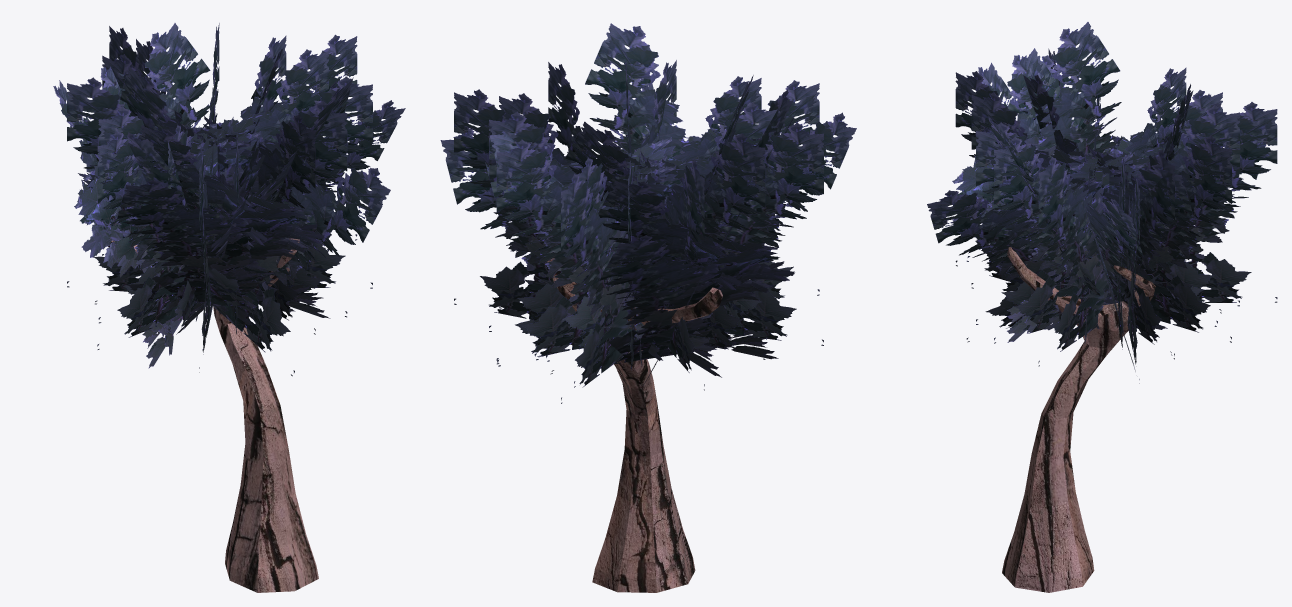
File: arvore2.fbx
3 renders of one model, left to right at view 1: azimuth 30°, elevation 25°; view 2: azimuth 150°, elevation 25°; view 3: azimuth 270°, elevation 25°, orthographic. The views are drawn at different scales.
Visible parts, largest first — view 1: Cube; view 2: Cube; view 3: Cube.
Part boxes in pixels (x1,y1,x2,y2): Cube: (53, 23, 405, 592); Cube: (440, 23, 856, 592); Cube: (927, 22, 1277, 592).
Bounding box in the file's own units: 581 × 751 × 523.
